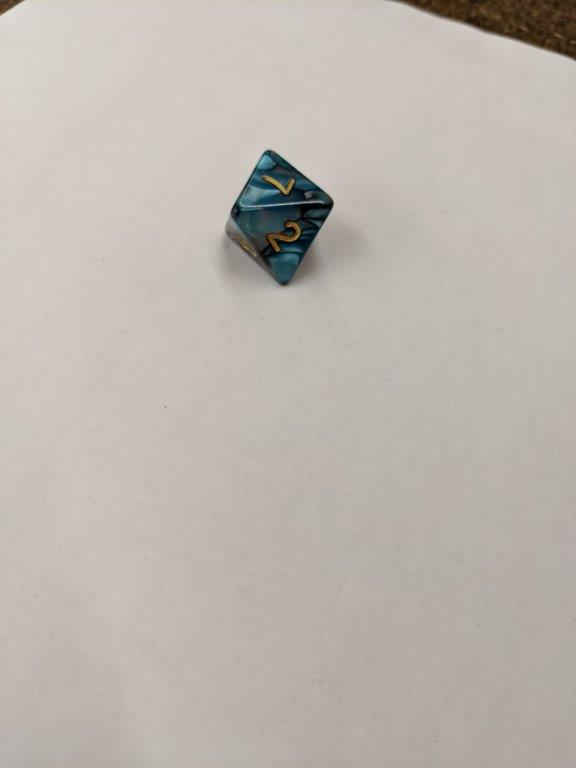d8-7: (226, 149, 336, 284)
